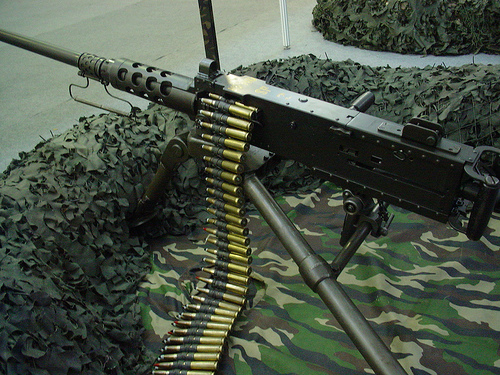rifle: (9, 16, 490, 312)
